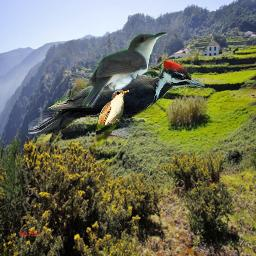Cuckoo: (82, 31, 169, 109), (82, 88, 131, 163)
Woodpecker: (28, 59, 205, 134)
